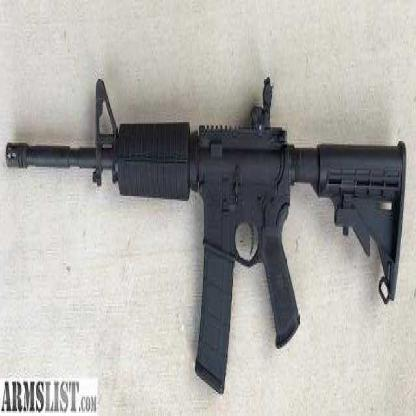rifle: (5, 60, 411, 375)
